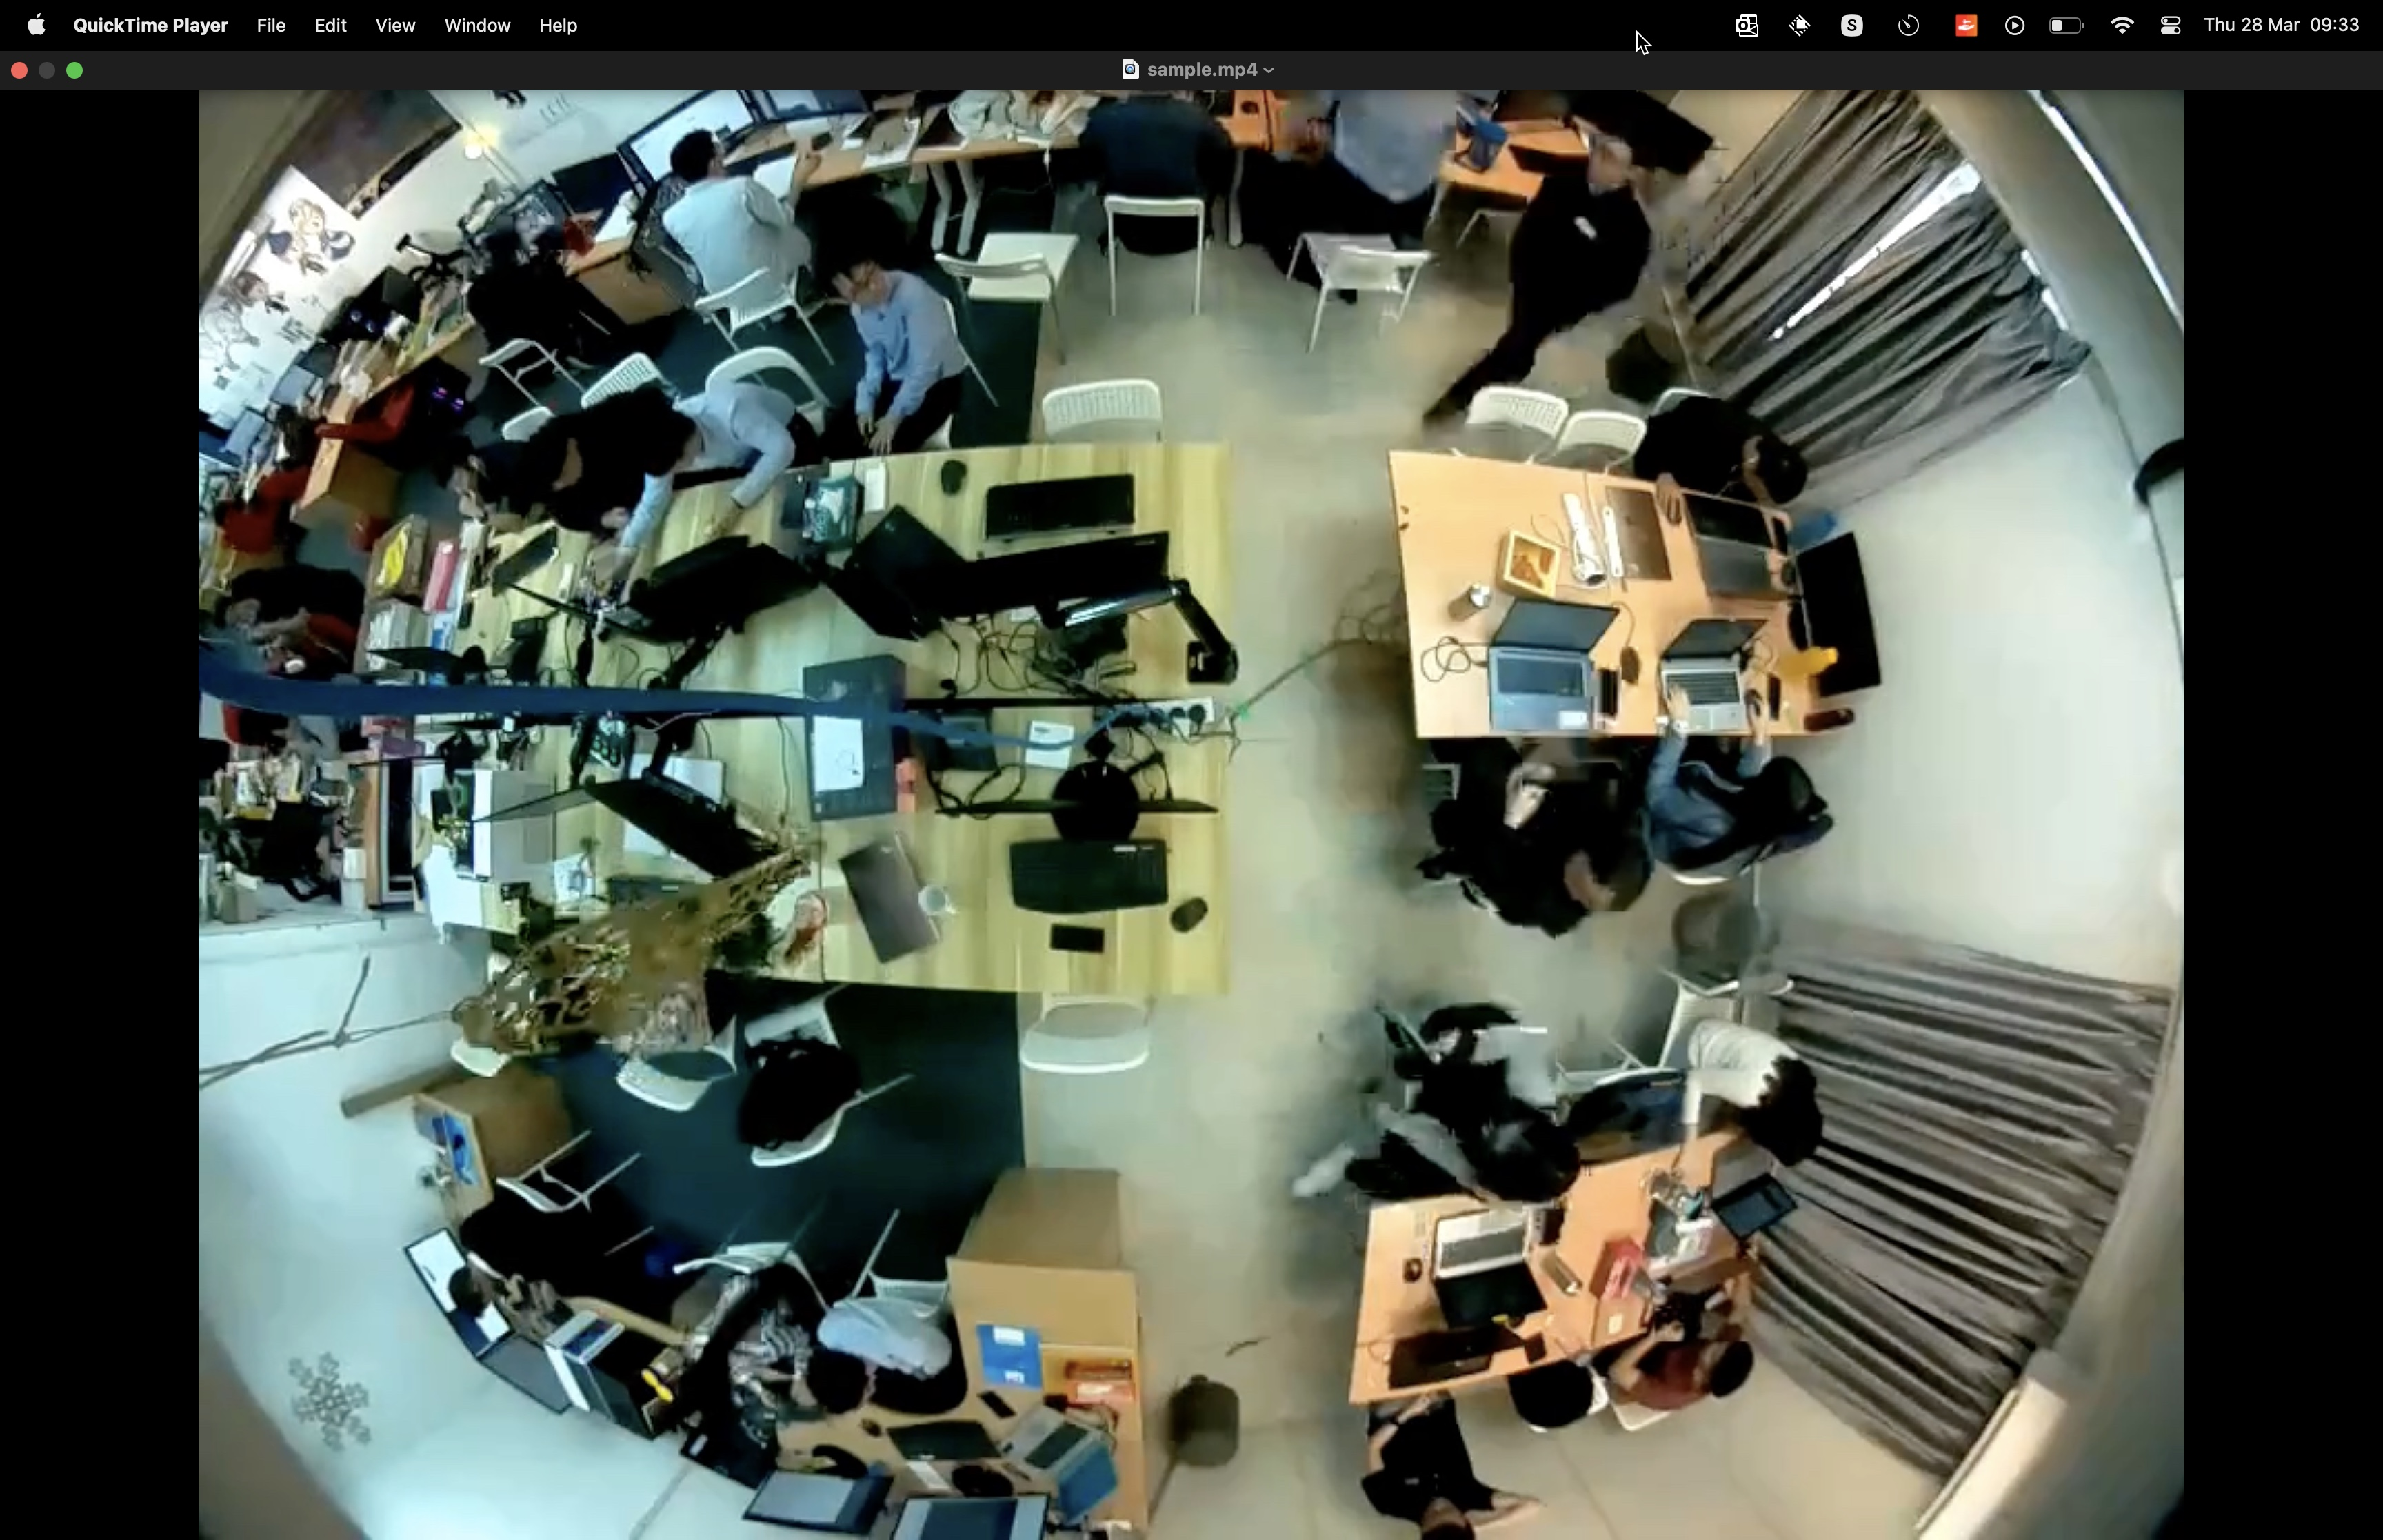Staff: (1429, 128, 1654, 429)
